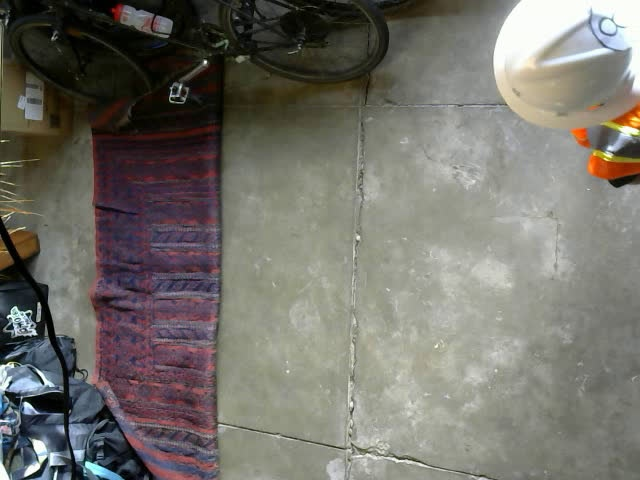eight: (584, 0, 638, 50)
